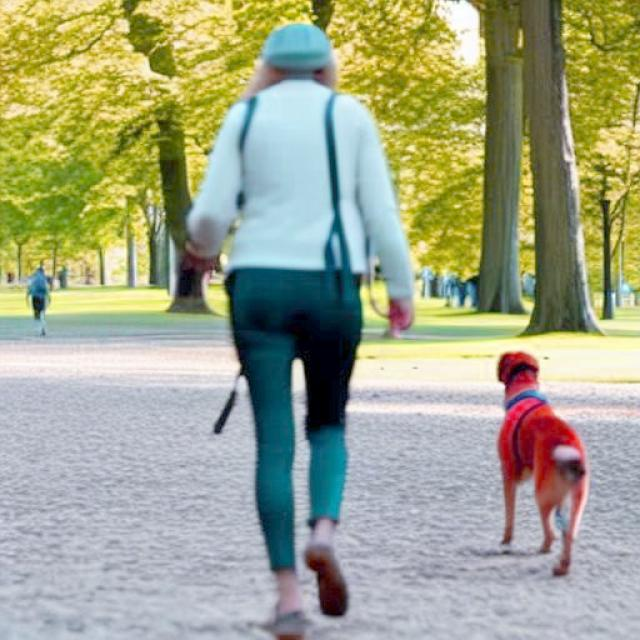Unleashed_Dog: (230, 268, 589, 578)
